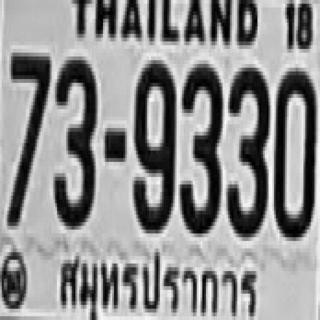N00: (273, 64, 315, 237)
N03: (51, 55, 96, 224), (178, 60, 221, 230), (227, 64, 268, 234)
N07: (7, 49, 50, 222)
N09: (132, 56, 173, 230)
P57: (53, 241, 259, 320)
